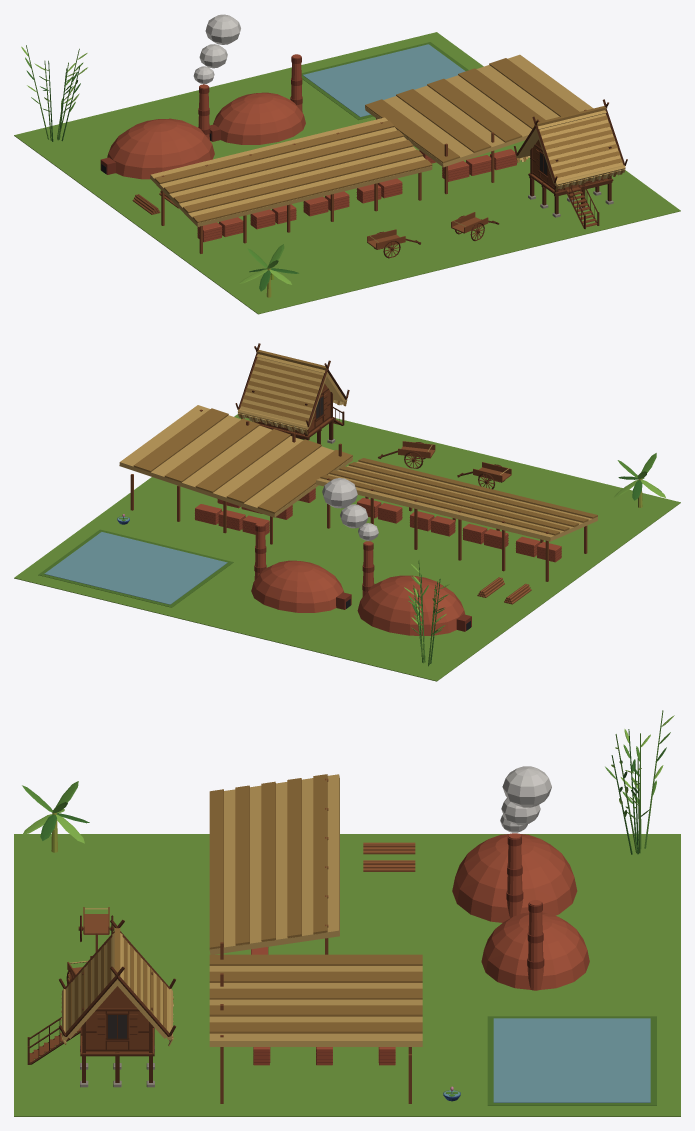
Rendered from factory_4.glb.
3 renders of one model, top to bottom at view 1: azimuth 30°, elevation 25°; view 2: azimuth 150°, elevation 25°; view 3: azimuth 270°, elevation 25°, orthographic. The views are drawn at different scales.
Parts seen in each view (by area): view 1: body; view 2: body; view 3: body.
Boxes of the visible parts, x1,y1,x2,y2 form: body: (14,14,680,314); body: (14,343,680,681); body: (14,710,680,1116).
Bounding box in the file's own units: 32.1 × 8.92 × 31.9.
